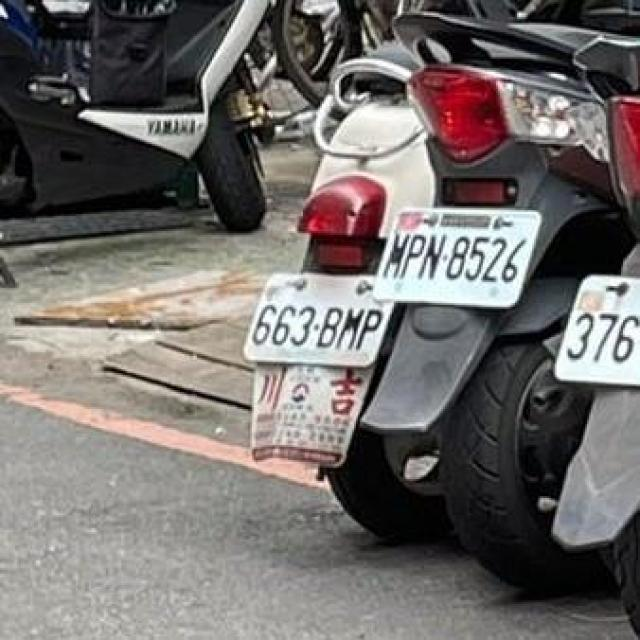W: (377, 191, 545, 316), (237, 260, 396, 382), (549, 258, 640, 405)
